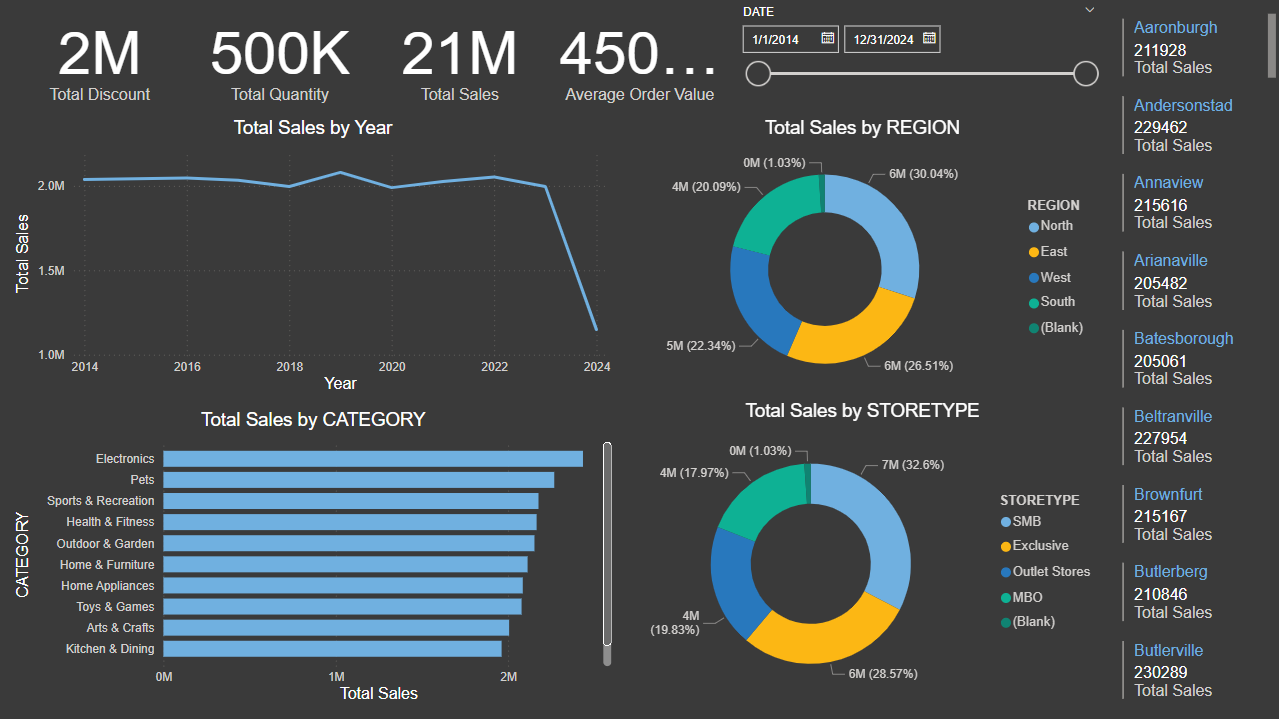

This screenshot's page, from the dashboard's own definition file:
{"tool":"powerbi","page":{"name":"Page 1","canvas":[1280,720],"ordinal":0},"visuals":[{"type":"card","fields":{"Values":["FACT.Total Discount"]},"box":[9.6,0,179.8,113.9],"z":0},{"type":"card","fields":{"Values":["FACT.Total Quantity"]},"box":[190,0,180,114.3],"z":1000},{"type":"card","fields":{"Values":["FACT.Total Sales"]},"box":[370,0,180,114.3],"z":2000},{"type":"card","fields":{"Values":["FACT.Average Order Value"]},"box":[550,0,180,114.3],"z":3000},{"type":"lineChart","fields":{"Category":["DIMDATE.DATE.Variation.Date Hierarchy.Year","DIMDATE.DATE.Variation.Date Hierarchy.Quarter","DIMDATE.DATE.Variation.Date Hierarchy.Month","DIMDATE.DATE.Variation.Date Hierarchy.Day"],"Y":["FACT.Total Sales"]},"box":[10,117.1,605.7,280],"z":4000},{"type":"barChart","fields":{"Category":["DIMPRODUCTDATA.CATEGORY"],"Y":["FACT.Total Sales"]},"box":[9.6,408.9,606.5,299.1],"z":5000},{"type":"multiRowCard","fields":{"Values":["DIMSTORE.CITY","FACT.Total Sales"]},"box":[1117,2.7,163.3,714.9],"z":6000},{"type":"slicer","fields":{"Values":["DIMDATE.DATE"]},"box":[730,0,377.1,114.3],"z":7000},{"type":"donutChart","fields":{"Category":["DIMSTORE.REGION"],"Y":["FACT.Total Sales"]},"box":[617.1,117.1,490,282.9],"z":7001},{"type":"donutChart","fields":{"Category":["DIMSTORE.STORETYPE"],"Y":["FACT.Total Sales"]},"box":[617.1,400,490,307.1],"z":7002}]}

Visuals, with their boxes in screenshot pixels (x1, y1, x2, y2), scaled from the page's 1280x720 canvas onto the 1279x719 screenshot:
card - FACT.Total Discount: BBox(10, 0, 189, 114)
card - FACT.Total Quantity: BBox(190, 0, 370, 114)
card - FACT.Total Sales: BBox(370, 0, 550, 114)
card - FACT.Average Order Value: BBox(550, 0, 729, 114)
lineChart - DIMDATE.DATE.Variation.Date Hierarchy.Year x DIMDATE.DATE.Variation.Date Hierarchy.Quarter: BBox(10, 117, 615, 397)
barChart - DIMPRODUCTDATA.CATEGORY x FACT.Total Sales: BBox(10, 408, 616, 707)
multiRowCard - DIMSTORE.CITY x FACT.Total Sales: BBox(1116, 3, 1278, 717)
slicer - DIMDATE.DATE: BBox(729, 0, 1106, 114)
donutChart - DIMSTORE.REGION x FACT.Total Sales: BBox(617, 117, 1106, 399)
donutChart - DIMSTORE.STORETYPE x FACT.Total Sales: BBox(617, 399, 1106, 706)
